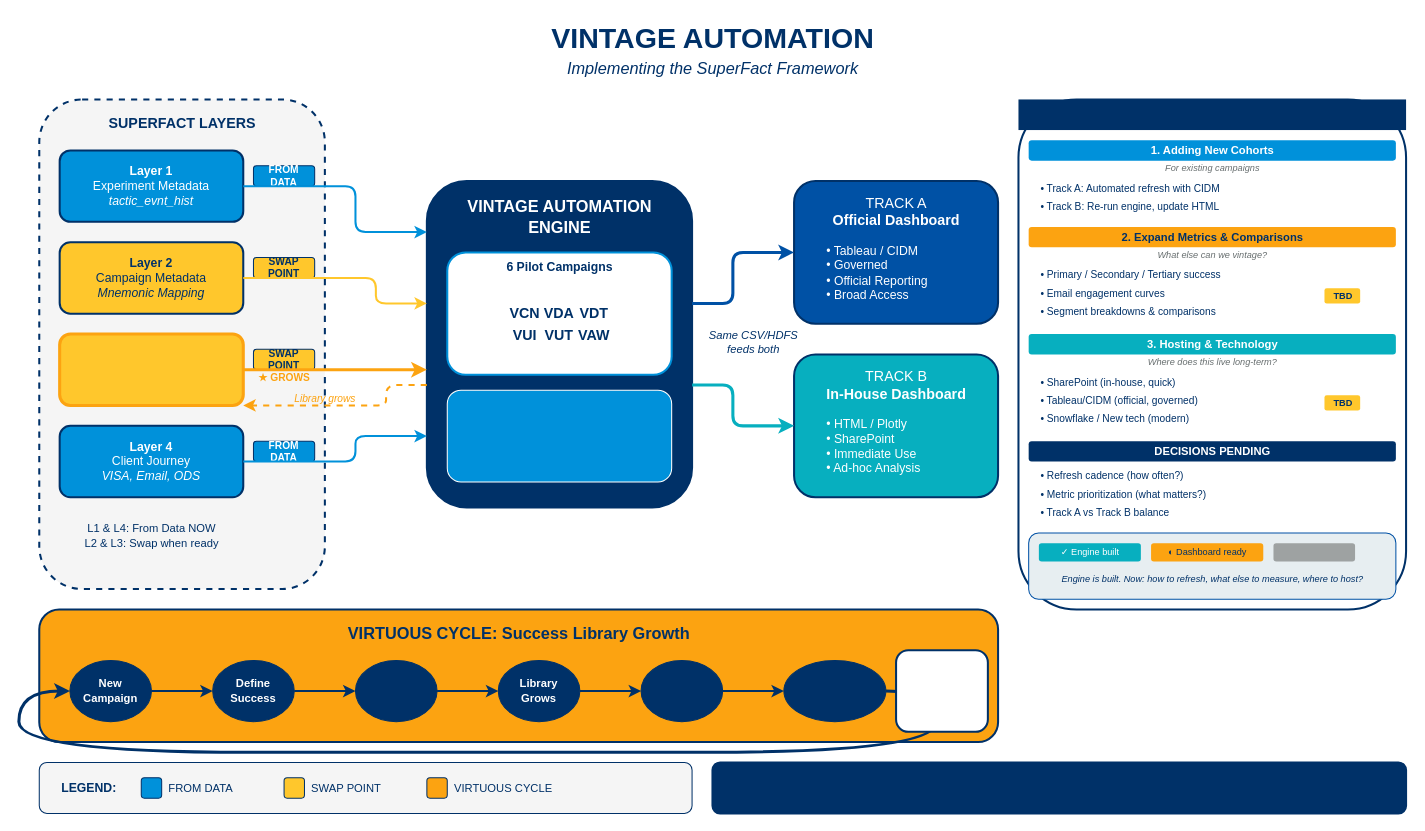
Image size: 1425x831. Some labels were removed from this diagram. The box of each missing label's shape, as (x1, y1, x2, y2) in pixels:
Add to Library: (354, 659, 437, 722)
Engine is built. Next steps: refresh process, expand metrics, decide on hosting.: (711, 761, 1407, 814)
Layer 3 Success Library Success Definitions: (58, 332, 244, 406)
More Governance: (640, 659, 723, 722)
Next Campaign FASTER: (783, 659, 886, 722)
NEXT STEPS: (1018, 99, 1406, 130)
Produces: Vintage Curves Lift Calculations Confidence Intervals: (446, 389, 672, 482)
Success Library: 4 metrics today → grows with each campaign: (895, 649, 988, 732)
○ Decisions: (1273, 543, 1355, 561)
